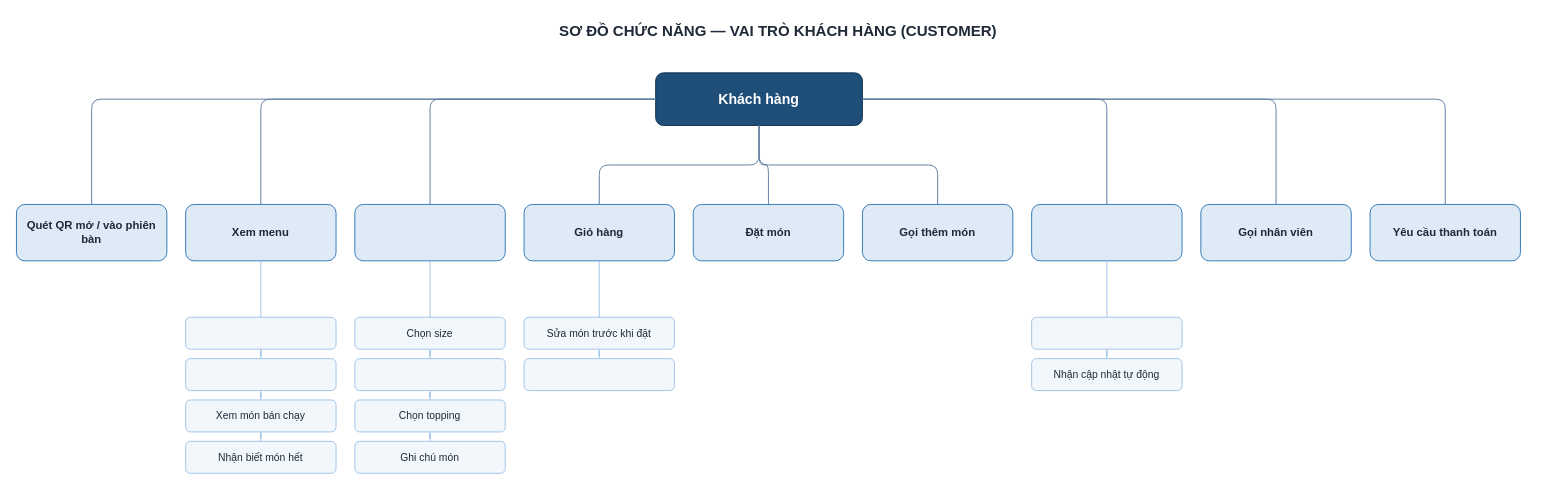
The diagram is 1556 pixels wide and 490 high, and some of its shapes have lost their labels. The centre of each missing label's shape, as x and y in pixels:
Chọn mức cay: the point at 429,374
Theo dõi trạng thái món (realtime): the point at 1106,232
Tìm kiếm món: the point at 260,374
Tùy chọn món: the point at 429,232
Xem theo danh mục: the point at 260,332
Xem trạng thái từng món: the point at 1106,332
Xóa món trước khi đặt: the point at 598,374
